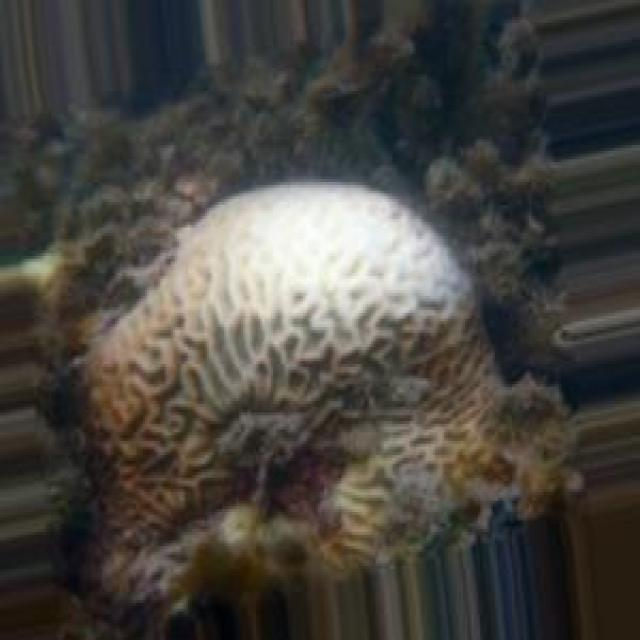Bleached: (71, 180, 568, 640), (167, 183, 472, 345)
